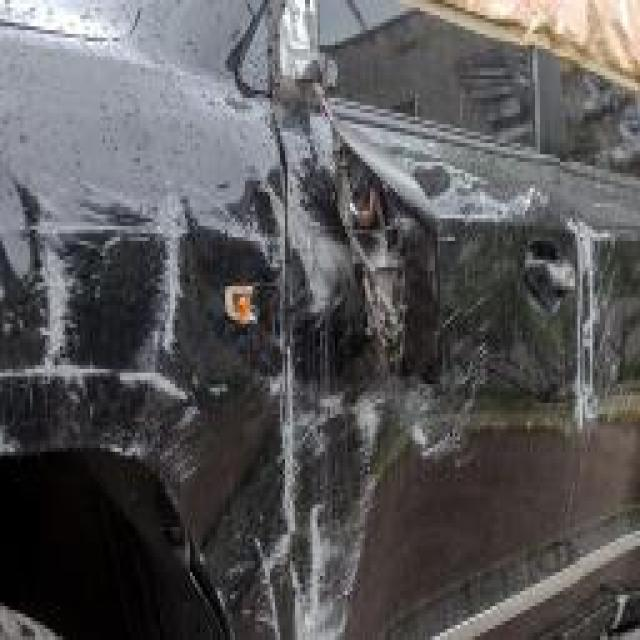Door: (262, 0, 640, 617)
Fender: (2, 30, 235, 523)
